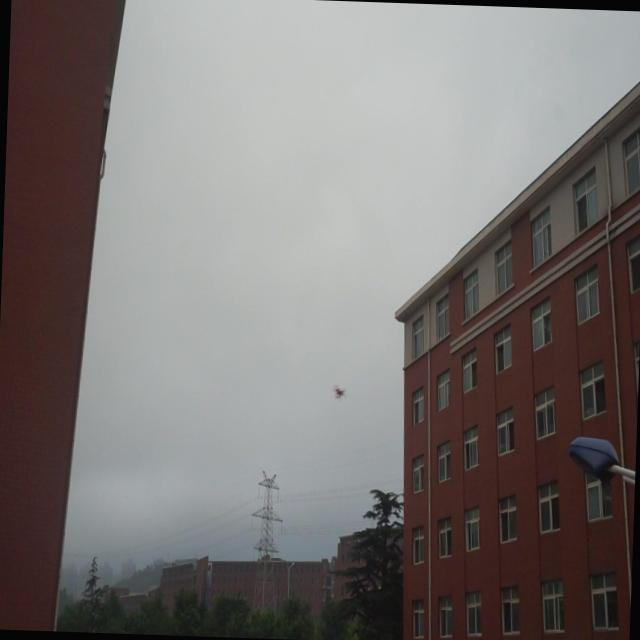drone: (332, 381, 348, 404)
